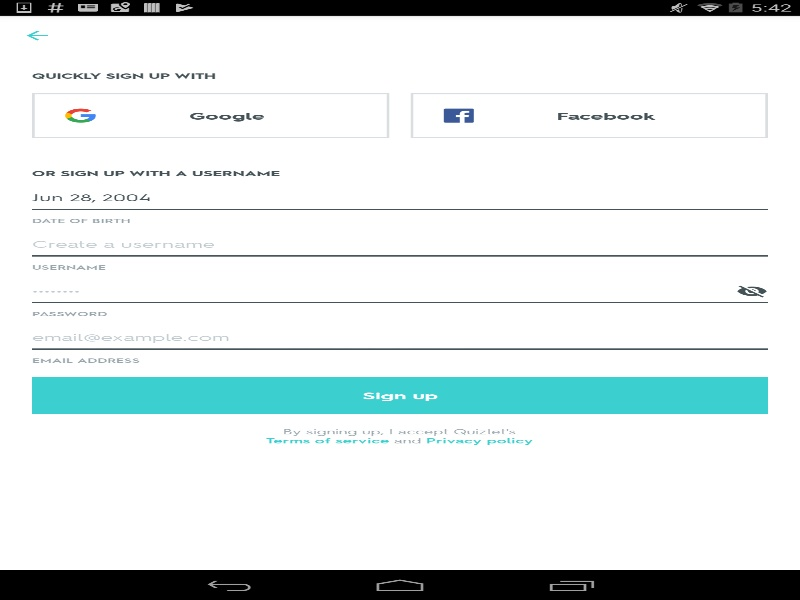Button: (32, 376, 768, 413)
Input: (32, 190, 768, 203), (32, 237, 768, 250), (32, 330, 768, 343), (32, 283, 704, 296)
